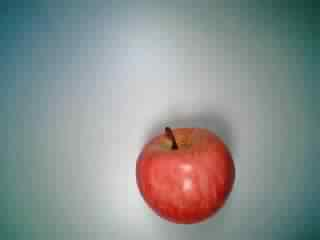apple: (134, 120, 237, 224)
